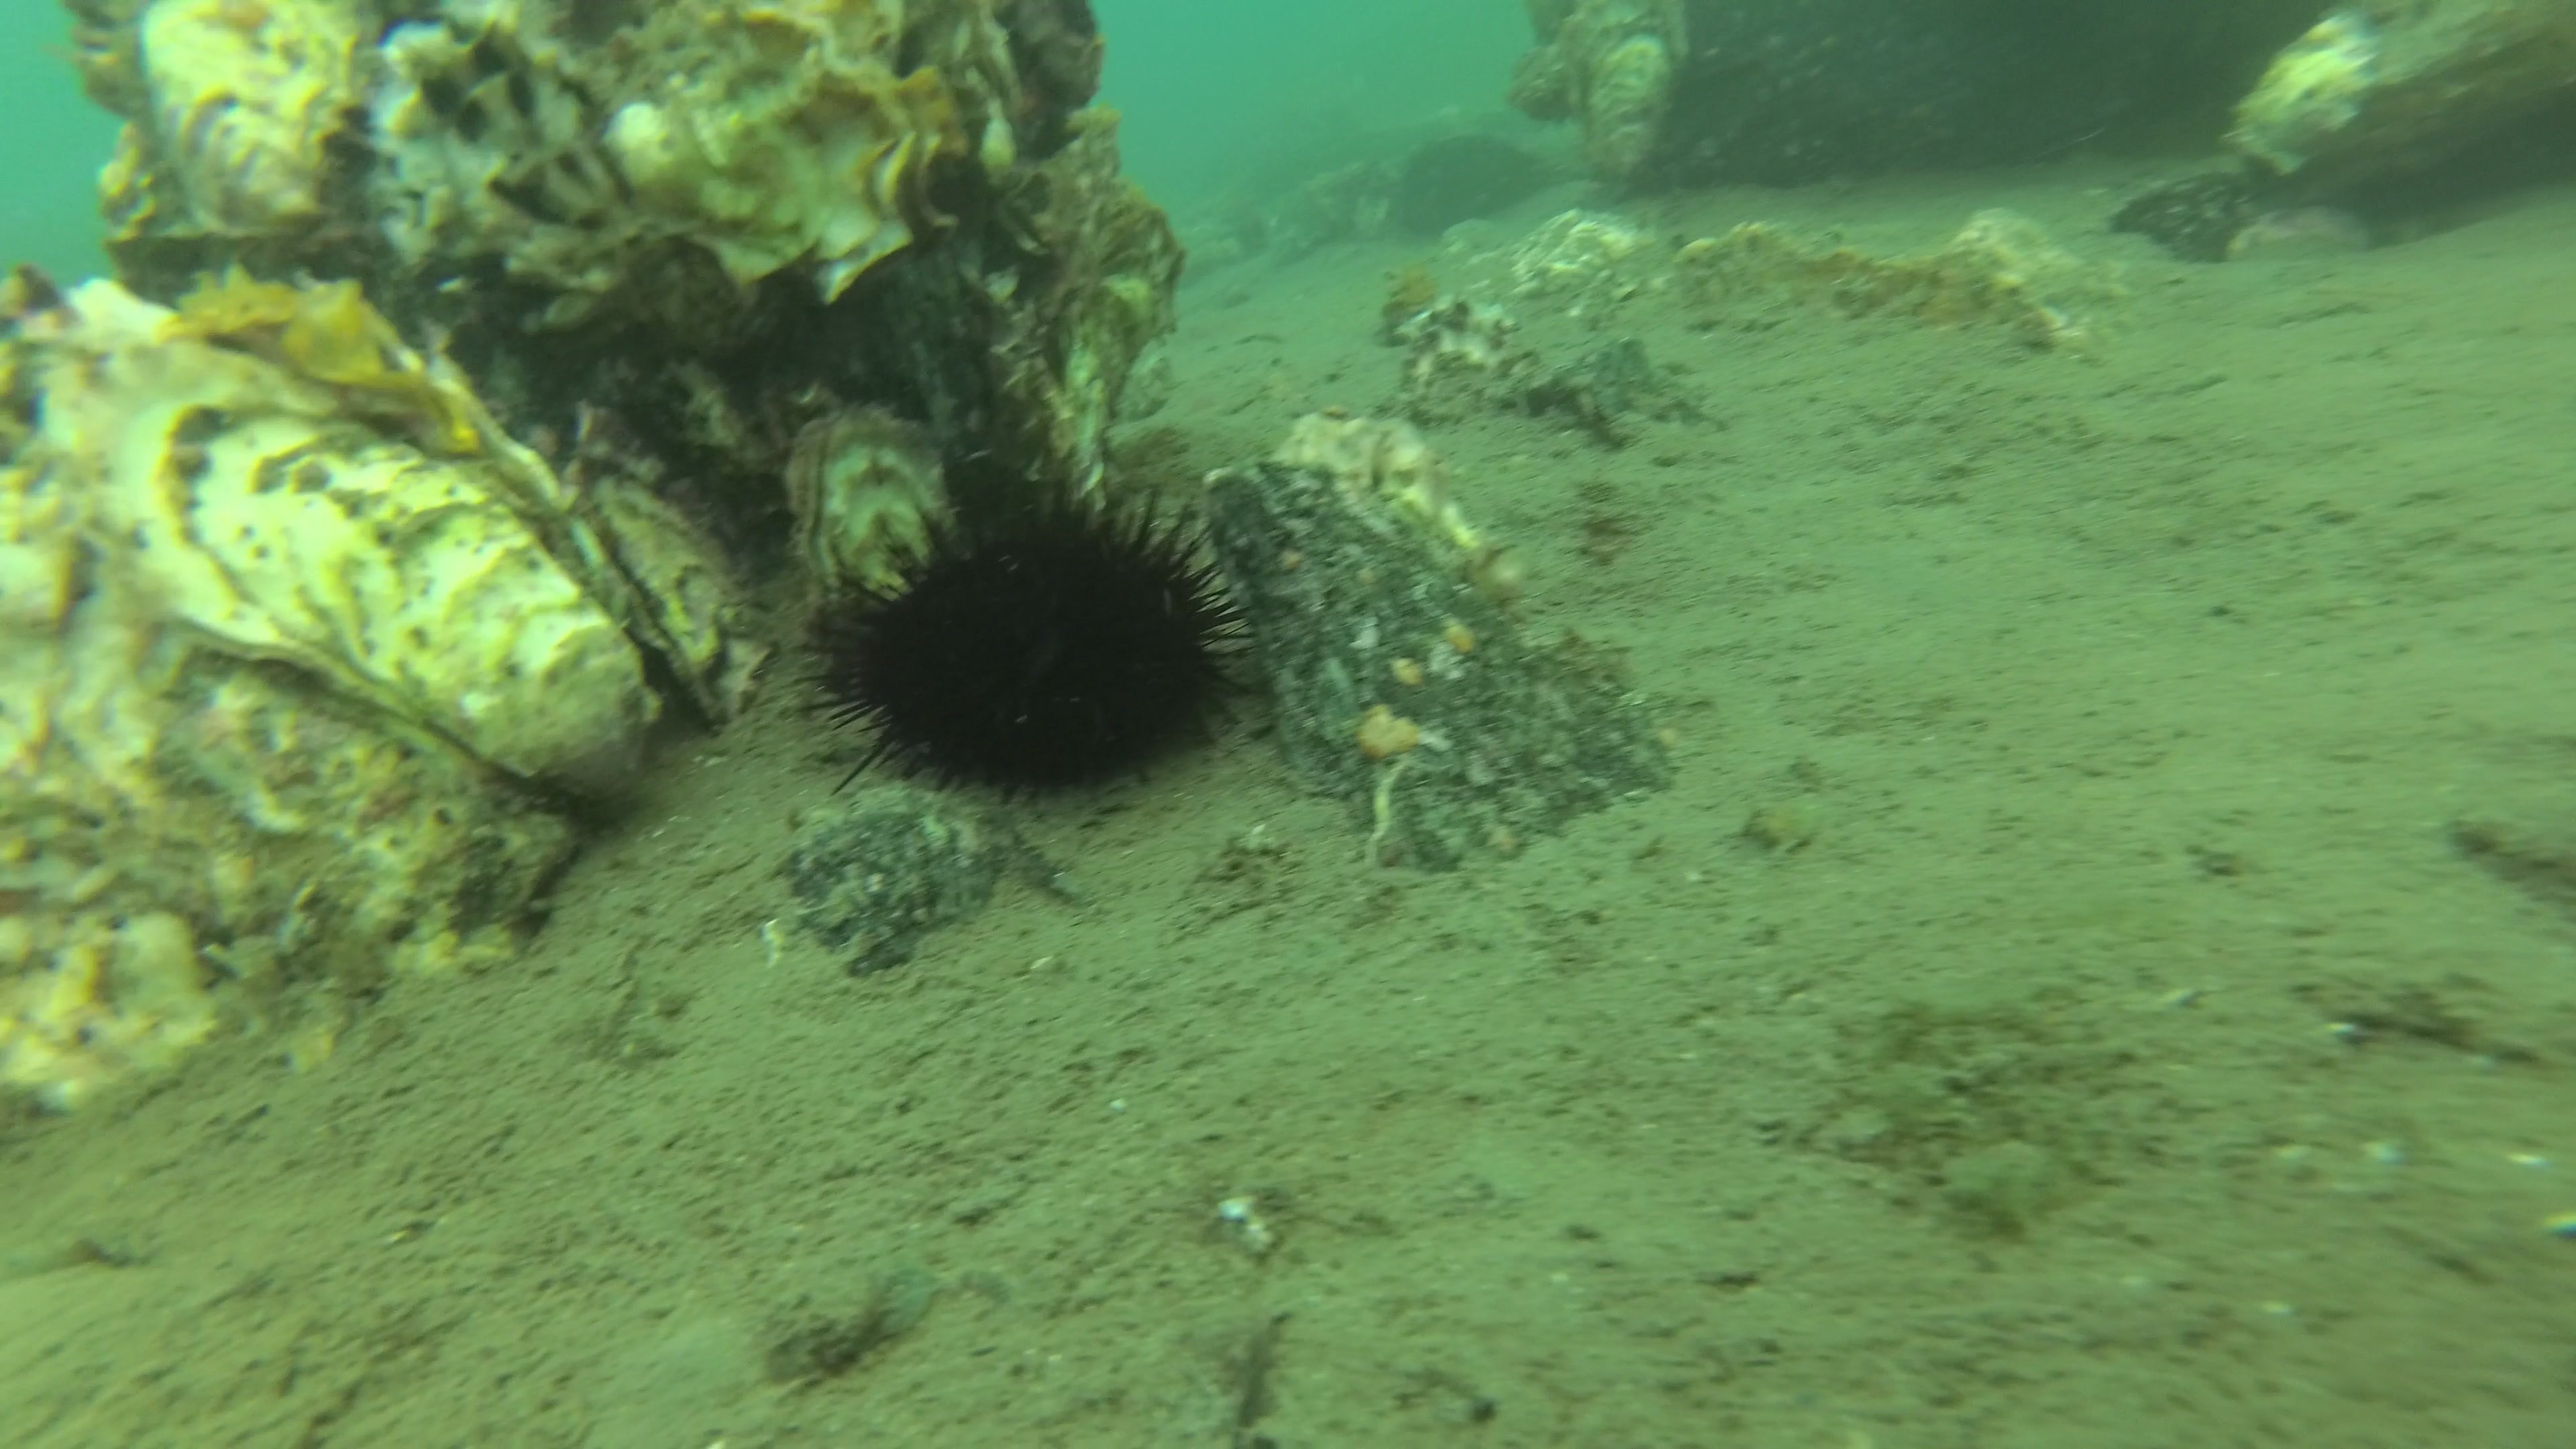echinus: (789, 469, 1269, 809)
